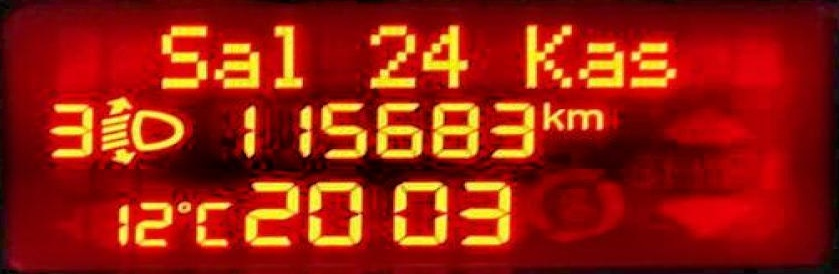0: (389, 180, 448, 245), (306, 180, 364, 246)
1: (238, 102, 258, 156), (294, 102, 313, 157), (114, 201, 129, 245)
2: (241, 180, 299, 246), (366, 23, 416, 89), (132, 199, 172, 245)
3: (458, 180, 511, 245), (488, 99, 536, 156), (47, 101, 94, 157)
4: (419, 24, 468, 88)
5: (318, 100, 368, 159)
6: (373, 100, 425, 157)
8: (428, 101, 480, 156)
X: (525, 23, 575, 89), (157, 24, 207, 89), (211, 40, 261, 89), (577, 40, 624, 89), (627, 41, 675, 87), (271, 23, 304, 89), (192, 199, 231, 248), (565, 106, 603, 131), (540, 100, 565, 130)
